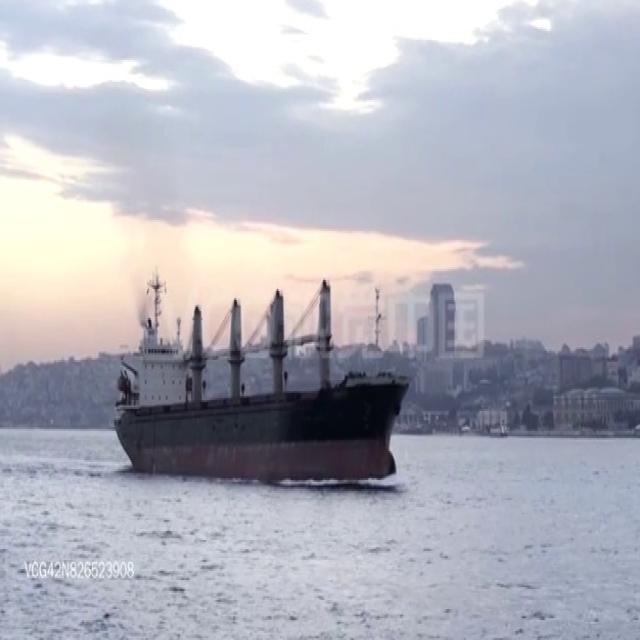cargoship: (115, 273, 405, 486)
